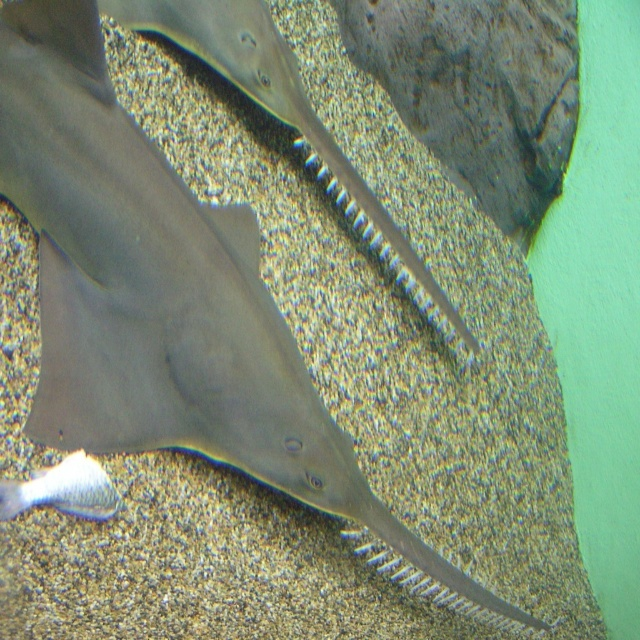Fish: (0, 0, 559, 640), (99, 0, 484, 361), (0, 447, 126, 524)
